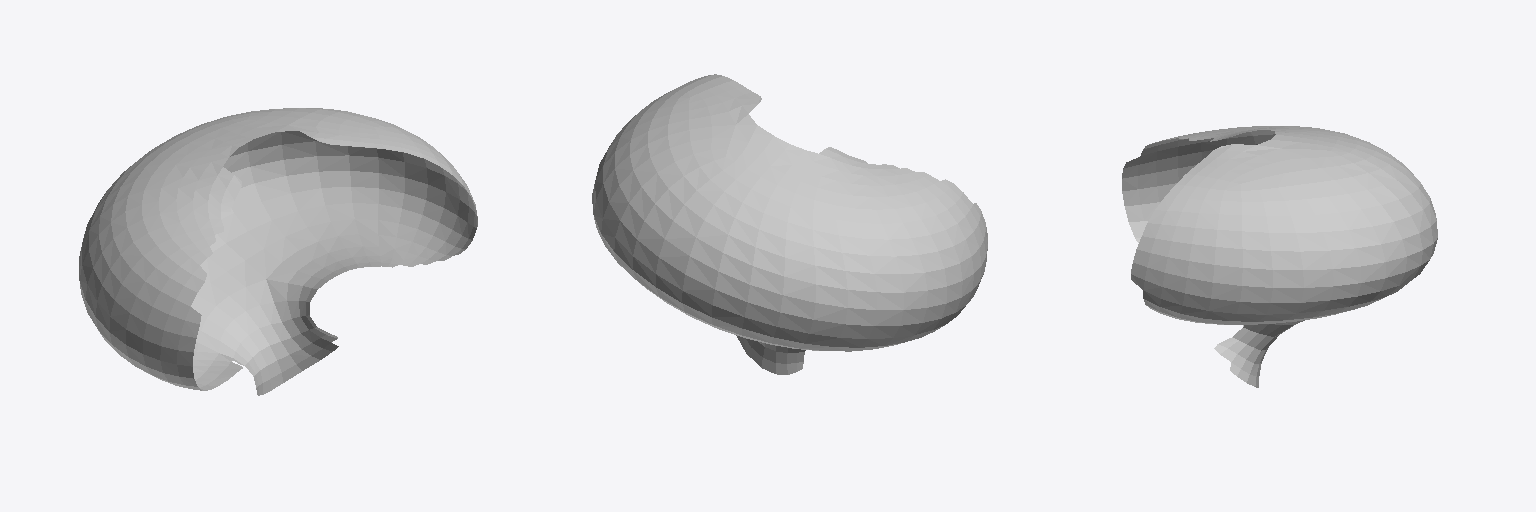
File: Rot_ex_4_A_25_mesh_opt.obj
3 renders of one model, left to right at view 1: azimuth 30°, elevation 25°; view 2: azimuth 150°, elevation 25°; view 3: azimuth 270°, elevation 25°, orthographic.
Size of the model in its own units: 5.58 by 4 by 4.49.